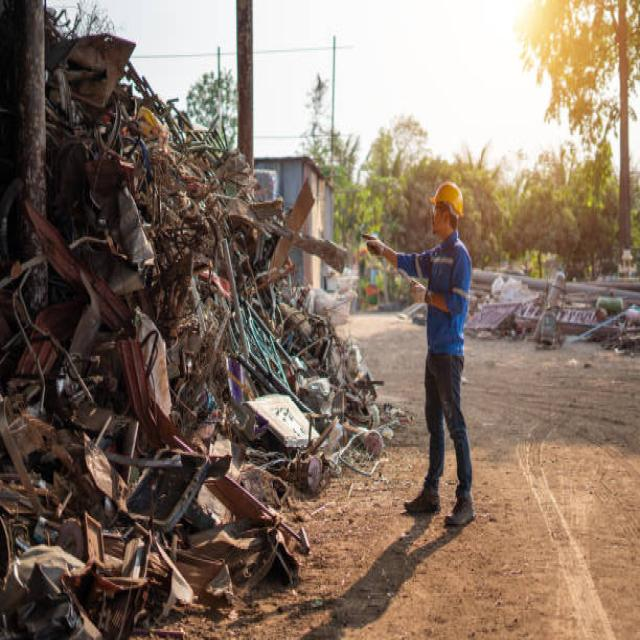metal: (53, 42, 382, 610)
